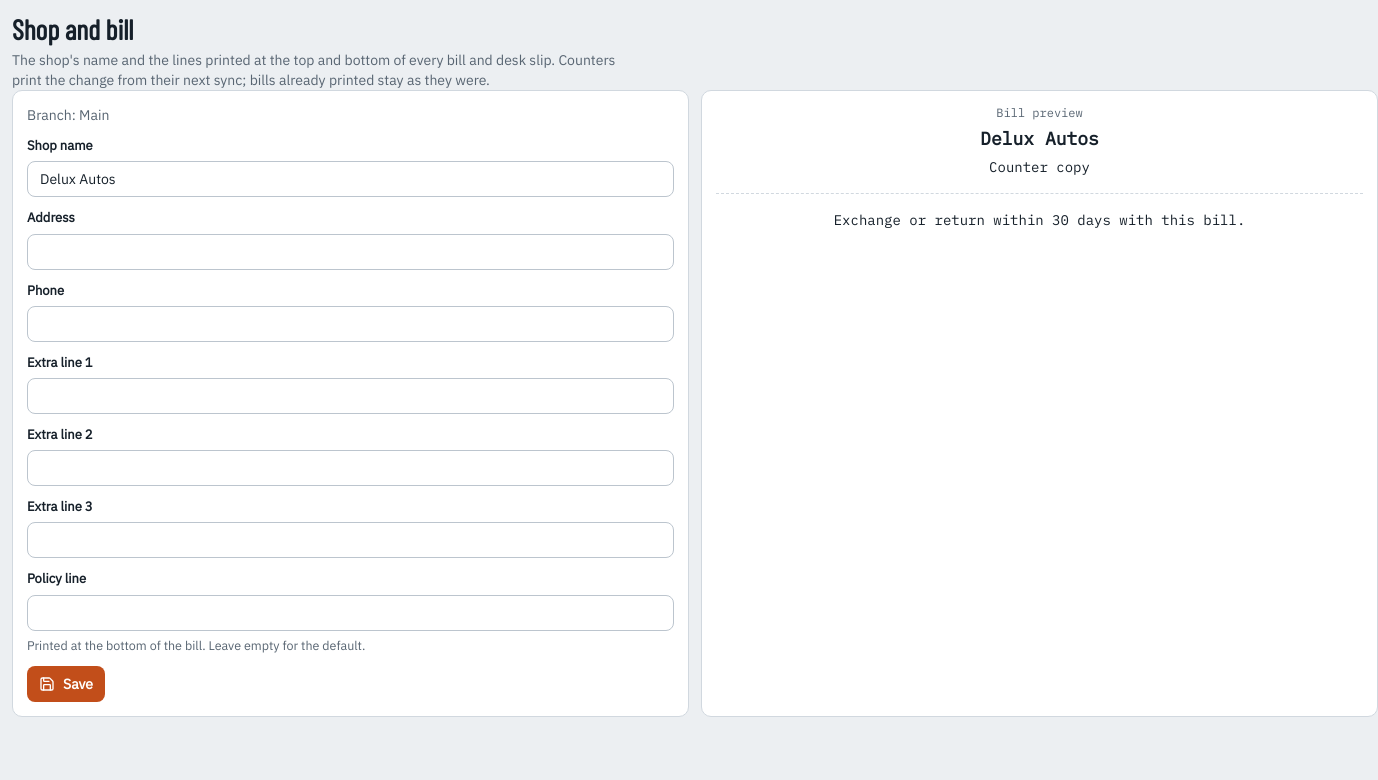
Scenario: the shop and bill screen › shows the saved values and previews the bill as it prints: name, header lines, policy line
Expected: the heading "Delux Autos" is shown, [980, 127, 1099, 150]
Expected: the text "Counter copy" is shown, [989, 158, 1090, 176]
Replace the text in the field labelled "Shop name" with "Delux City Auto Corner" at (350, 179), box [27, 161, 674, 197]
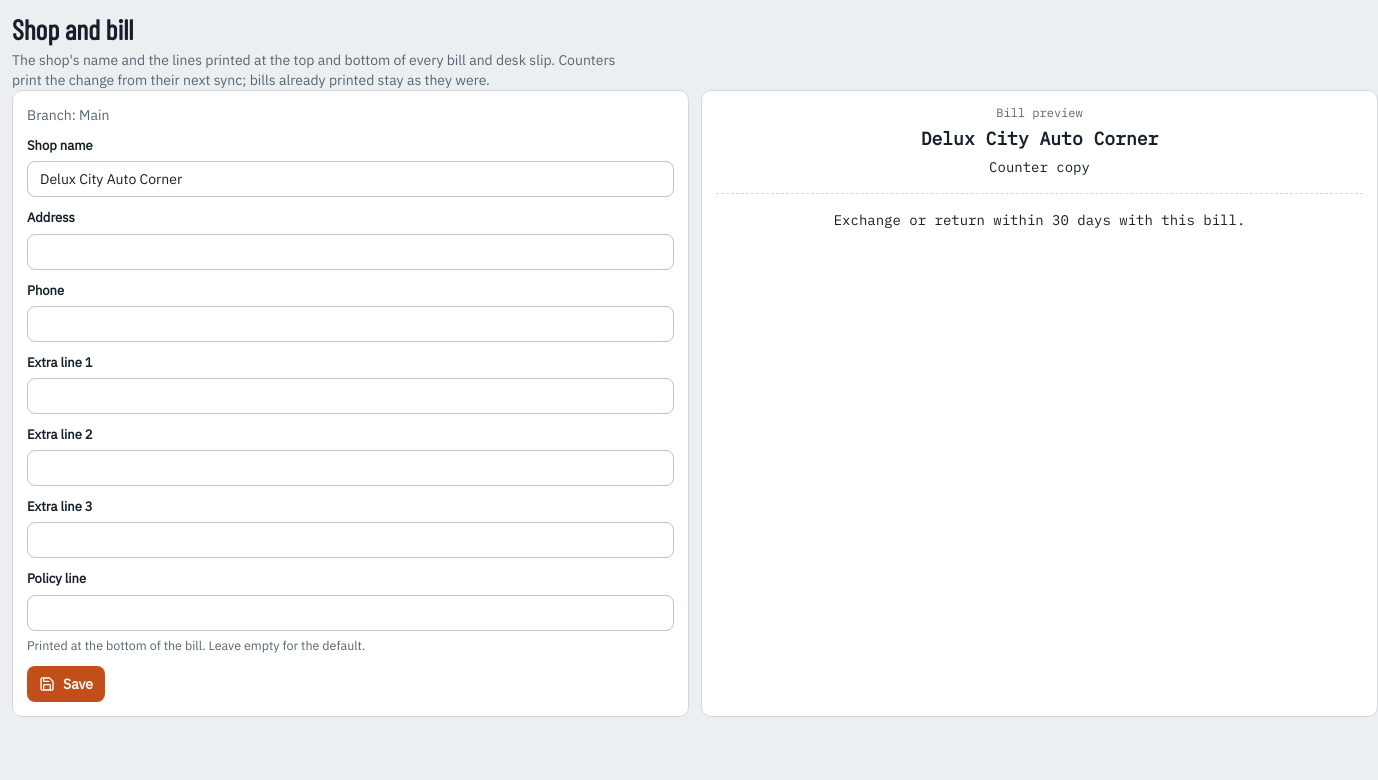
Type "Shop 14, Auto Market, Karachi" into the field labelled "Address".
click(350, 252); type("Shop 14, Auto Market, Karachi")  # box [27, 234, 674, 270]
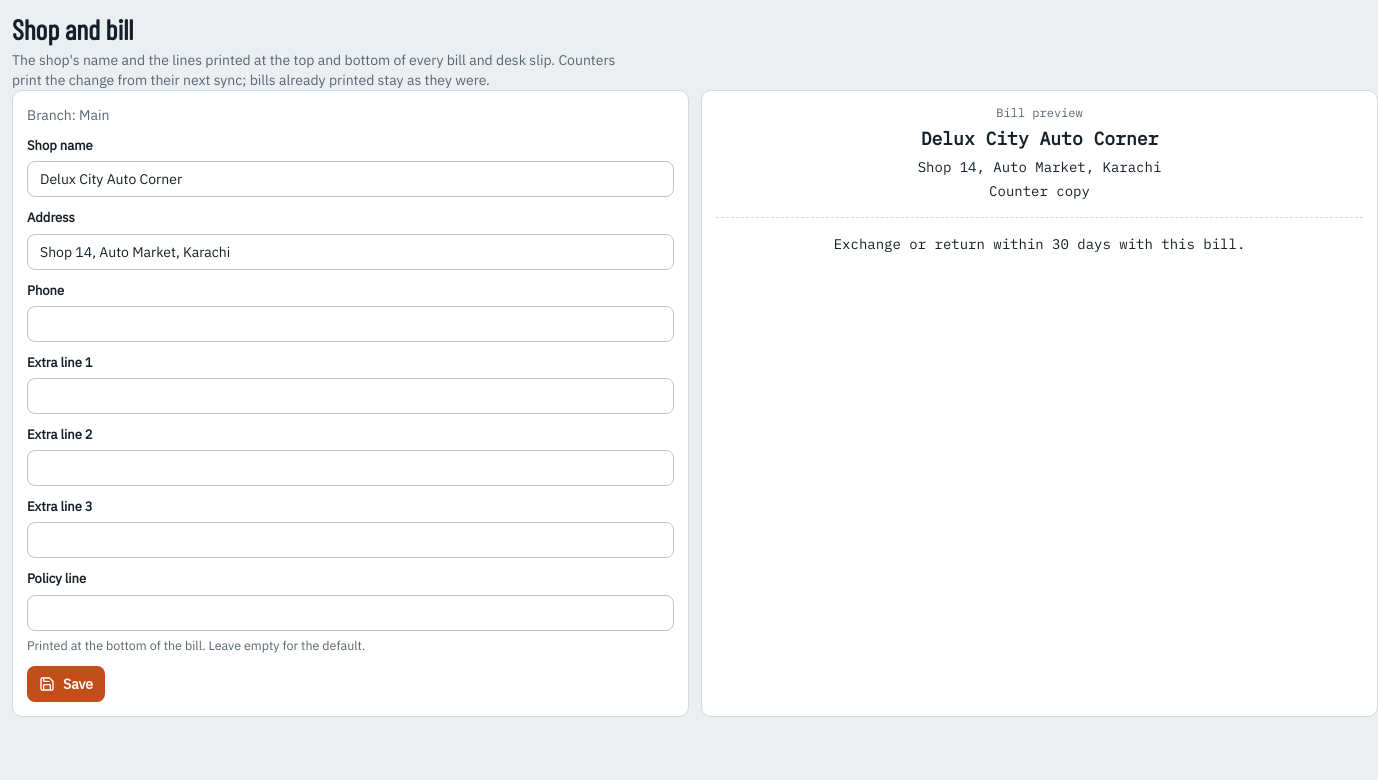
Type "021-1234567" into the field labelled "Phone".
click(350, 324); type("021-1234567")  # box [27, 306, 674, 342]
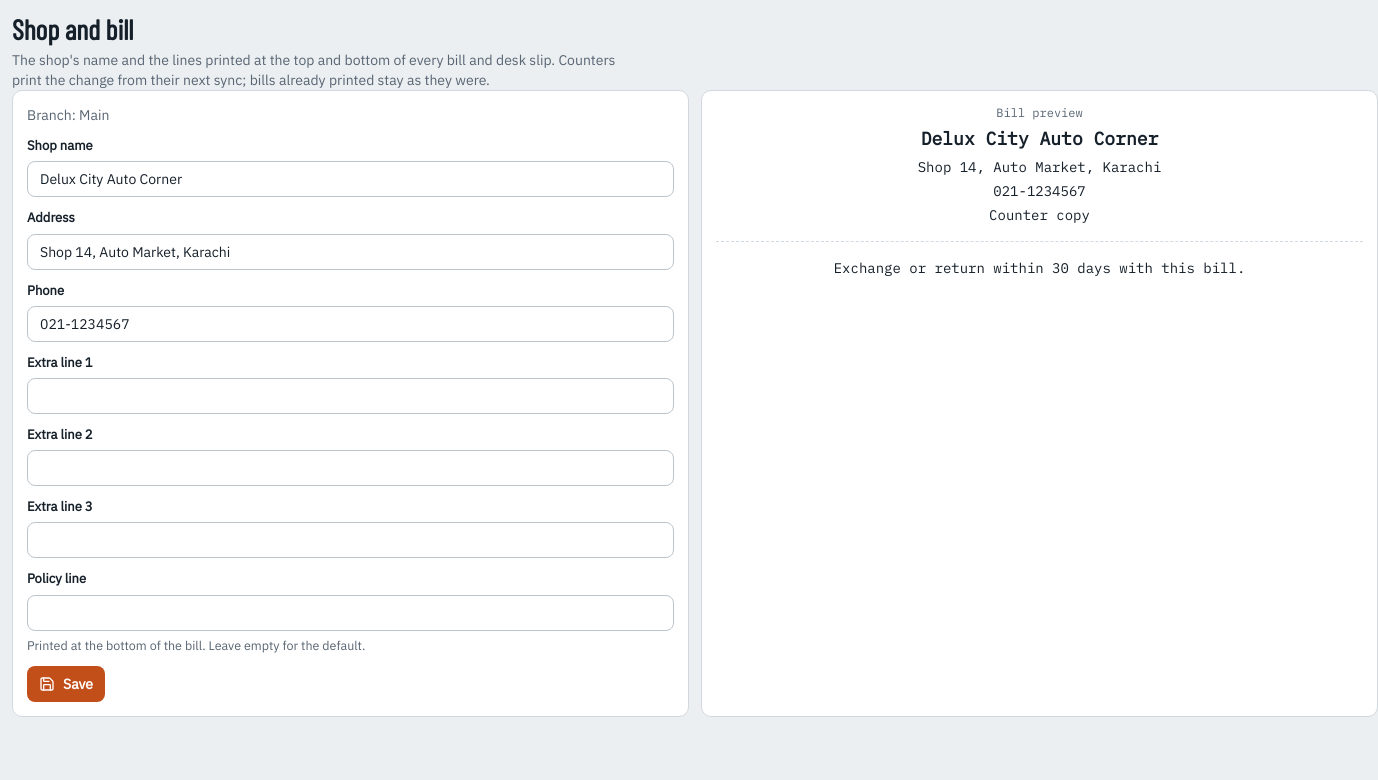
Type "Dealers in genuine parts" into the field labelled "Extra line 1".
click(350, 396); type("Dealers in genuine parts")  # box [27, 378, 674, 414]
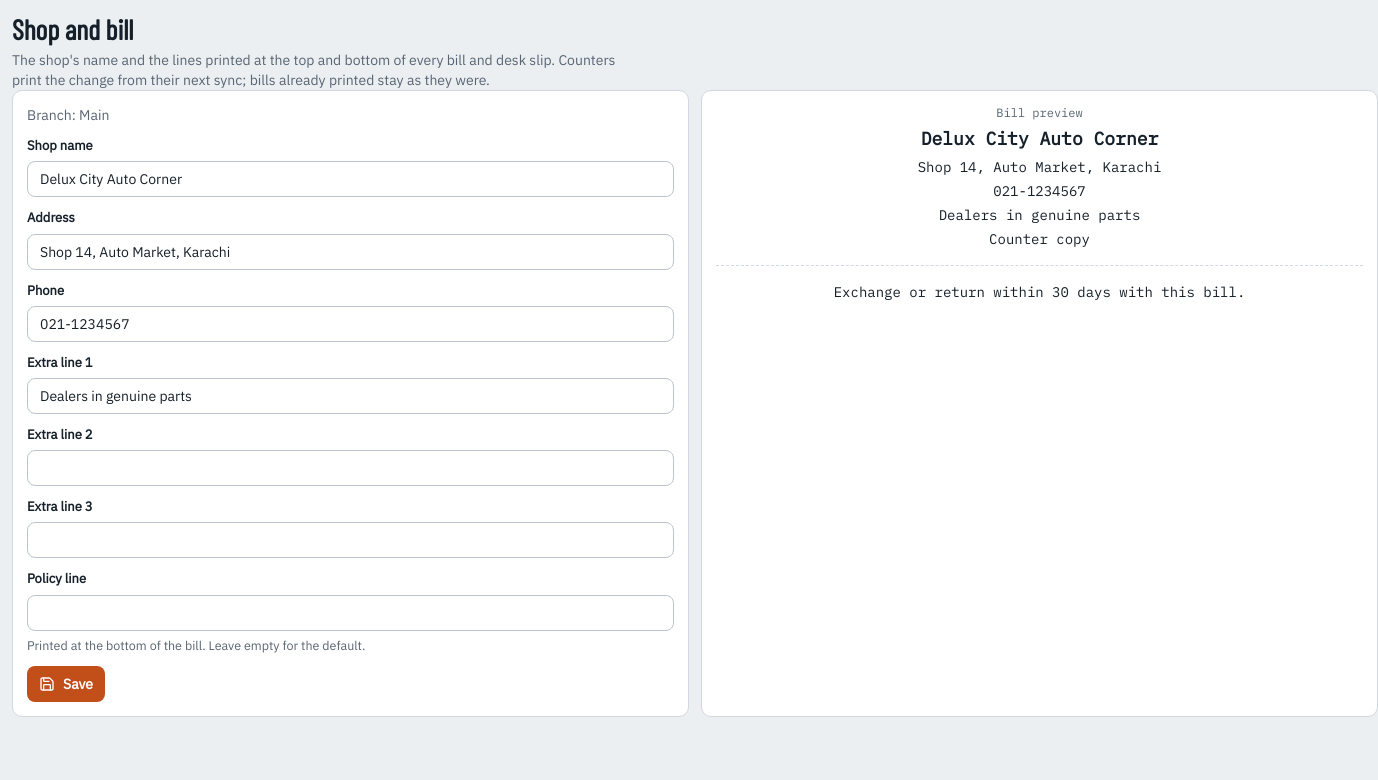
Type "Exchange within 30 days with this bill." into the field labelled "Policy line".
click(350, 612); type("Exchange within 30 days with this bill.")  # box [27, 594, 674, 630]
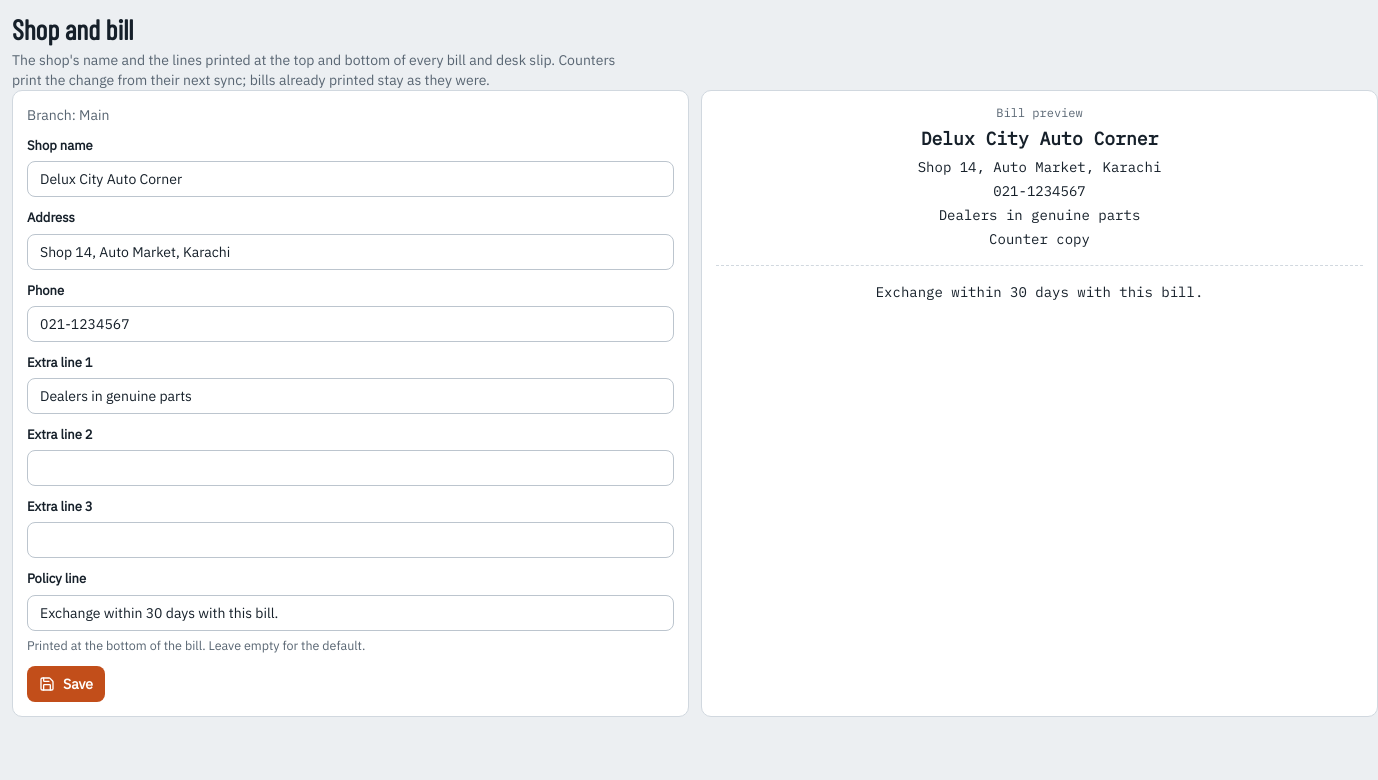
Expected: the heading "Delux City Auto Corner" is shown, [921, 127, 1158, 150]
Expected: the elements with test id "header-line" read "Shop 14, Auto Market, Karachi", "021-1234567", "Dealers in genuine parts", "Counter copy", in this order, [918, 158, 1161, 176]; [993, 182, 1086, 200]; [939, 206, 1140, 224]; [989, 230, 1090, 248]
Expected: the text "Exchange within 30 days with this bill." is shown, [876, 283, 1203, 301]
